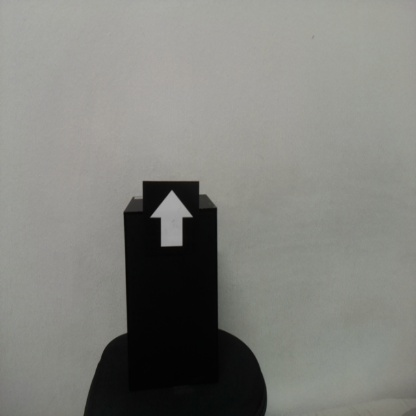id_1: (142, 181, 200, 264)
